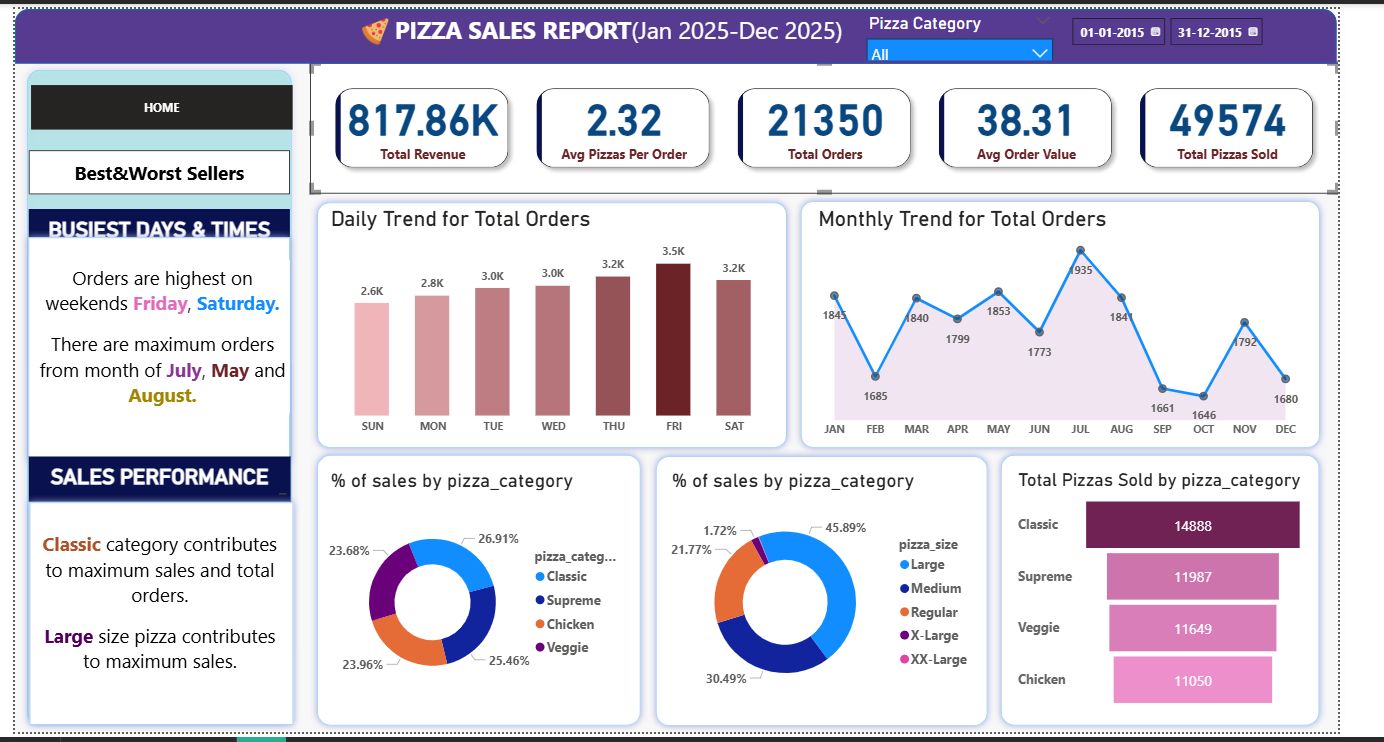

The dashboard page shown, as its layout file describes it:
{"tool":"powerbi","page":{"name":"HOME","canvas":[1500,820],"ordinal":0},"visuals":[{"type":"cardVisual","fields":{"Data":["Details.Total Revenue","Details.Avg Pizzas Per Order","Details.Total Orders","Details.Avg Order Value","Details.Total Pizzas Sold"]},"box":[334.3,61.4,1166,148.6],"z":0},{"type":"shape","box":[0,0,1498,62],"z":1000},{"type":"textbox","box":[374.3,0,811.4,51.4],"z":2000},{"type":"image","box":[0,10,817.1,31.4],"z":3000},{"type":"shape","box":[334.3,211.4,548.6,294.3],"z":4000},{"type":"columnChart","title":"Daily Trend for Total Orders","fields":{"Category":["Details.Order Day"],"Y":["Details.Total Orders"]},"box":[352.9,224.3,515.7,267.1],"z":5000},{"type":"shape","box":[882.9,210,604.3,295.7],"z":6000},{"type":"areaChart","title":"Monthly Trend for Total Orders","fields":{"Category":["Details.Order Month"],"Y":["Details.Total Orders"]},"box":[905.7,224.3,558.6,271.4],"z":7000},{"type":"shape","box":[334.3,497.1,382.9,322.9],"z":8000},{"type":"shape","box":[718,498,392,322],"z":9000},{"type":"shape","box":[1110,497.1,377.1,322.9],"z":10000},{"type":"donutChart","title":"% of sales by pizza_category","fields":{"Category":["Details.pizza_category"],"Y":["Details.Total Revenue"]},"box":[352.9,521.4,347.1,278.6],"z":11000},{"type":"donutChart","title":"% of sales by pizza_category","fields":{"Y":["Details.Total Revenue"],"Series":["Details.pizza_size"]},"box":[740,521.4,357.1,278.6],"z":12000},{"type":"funnel","fields":{"Category":["Details.pizza_category"],"Y":["Details.Total Pizzas Sold"]},"box":[1131.4,521.4,334.3,278.6],"z":13000},{"type":"shape","box":[6,61,316,759],"z":14000},{"type":"textbox","title":"BUSIEST DAYS & TIMES","box":[16,226,296,50],"z":15000},{"type":"shape","box":[7.5,251.2,312.5,270],"z":16000},{"type":"textbox","title":"SALES PERFORMANCE","box":[16,506.7,296.7,51],"z":17000},{"type":"shape","box":[8.3,551.7,315,268.3],"z":18000},{"type":"textbox","box":[22.7,284.5,289.1,173.6],"z":19000},{"type":"textbox","box":[15.7,587.1,297.1,171.4],"z":20000},{"type":"slicer","fields":{"Values":["Details.pizza_category"]},"box":[954.3,0,231.4,58.6],"z":21000},{"type":"slicer","fields":{"Values":["Details.order_date"]},"box":[1185.7,0,247.1,58.6],"z":22000},{"type":"pageNavigator","box":[18,86,296,50],"z":23000},{"type":"pageNavigator","box":[16,160,296,50],"z":24000}]}

Visuals, with their boxes in screenshot pixels (x1, y1, x2, y2), scaled from the page's 1500x820 canvas onto the 1384x742 screenshot:
cardVisual - Details.Total Revenue x Details.Avg Pizzas Per Order: BBox(308, 56, 1383, 190)
shape: BBox(0, 0, 1382, 56)
textbox: BBox(345, 0, 1094, 47)
image: BBox(0, 9, 754, 37)
shape: BBox(308, 191, 815, 458)
"Daily Trend for Total Orders" columnChart: BBox(326, 203, 801, 445)
shape: BBox(815, 190, 1372, 458)
"Monthly Trend for Total Orders" areaChart: BBox(836, 203, 1351, 449)
shape: BBox(308, 450, 662, 741)
shape: BBox(662, 451, 1024, 741)
shape: BBox(1024, 450, 1372, 741)
"% of sales by pizza_category" donutChart: BBox(326, 472, 646, 724)
"% of sales by pizza_category" donutChart: BBox(683, 472, 1012, 724)
funnel - Details.pizza_category x Details.Total Pizzas Sold: BBox(1044, 472, 1352, 724)
shape: BBox(6, 55, 297, 741)
"BUSIEST DAYS & TIMES" textbox: BBox(15, 205, 288, 250)
shape: BBox(7, 227, 295, 472)
"SALES PERFORMANCE" textbox: BBox(15, 459, 289, 505)
shape: BBox(8, 499, 298, 741)
textbox: BBox(21, 257, 288, 415)
textbox: BBox(14, 531, 289, 686)
slicer - Details.pizza_category: BBox(881, 0, 1094, 53)
slicer - Details.order_date: BBox(1094, 0, 1322, 53)
pageNavigator: BBox(17, 78, 290, 123)
pageNavigator: BBox(15, 145, 288, 190)
